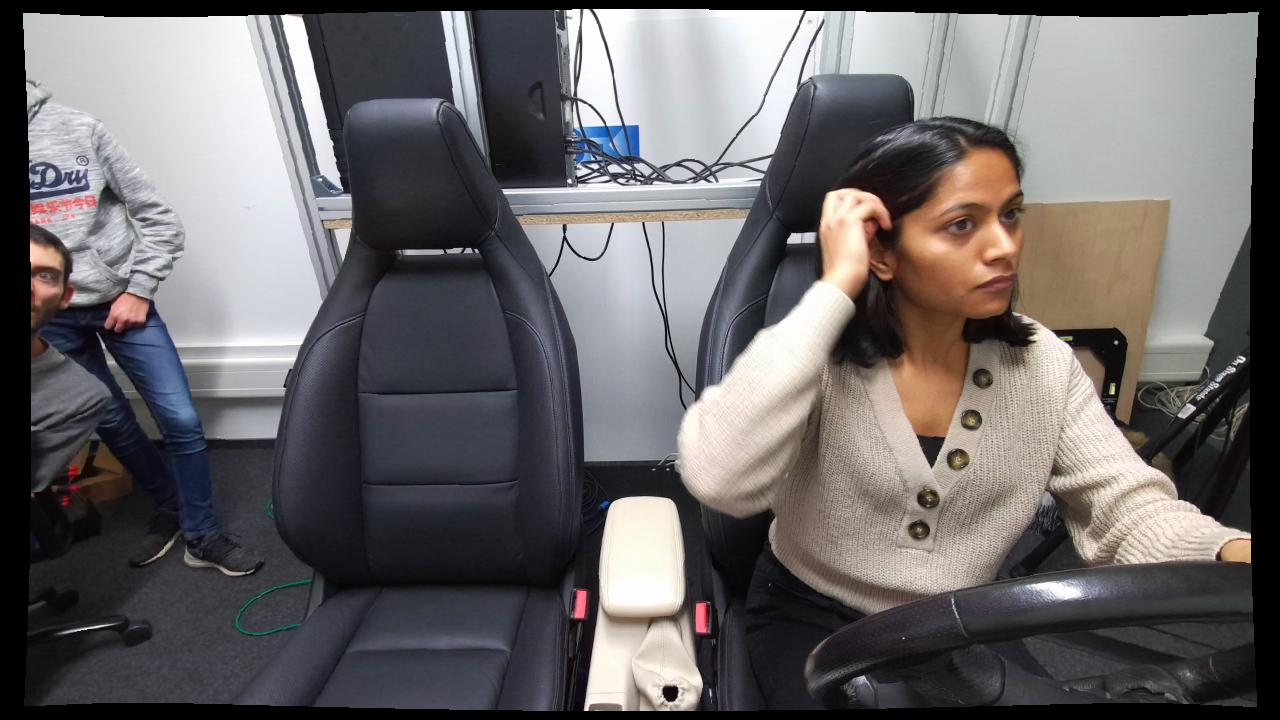Distracted: (674, 115, 1083, 708)
